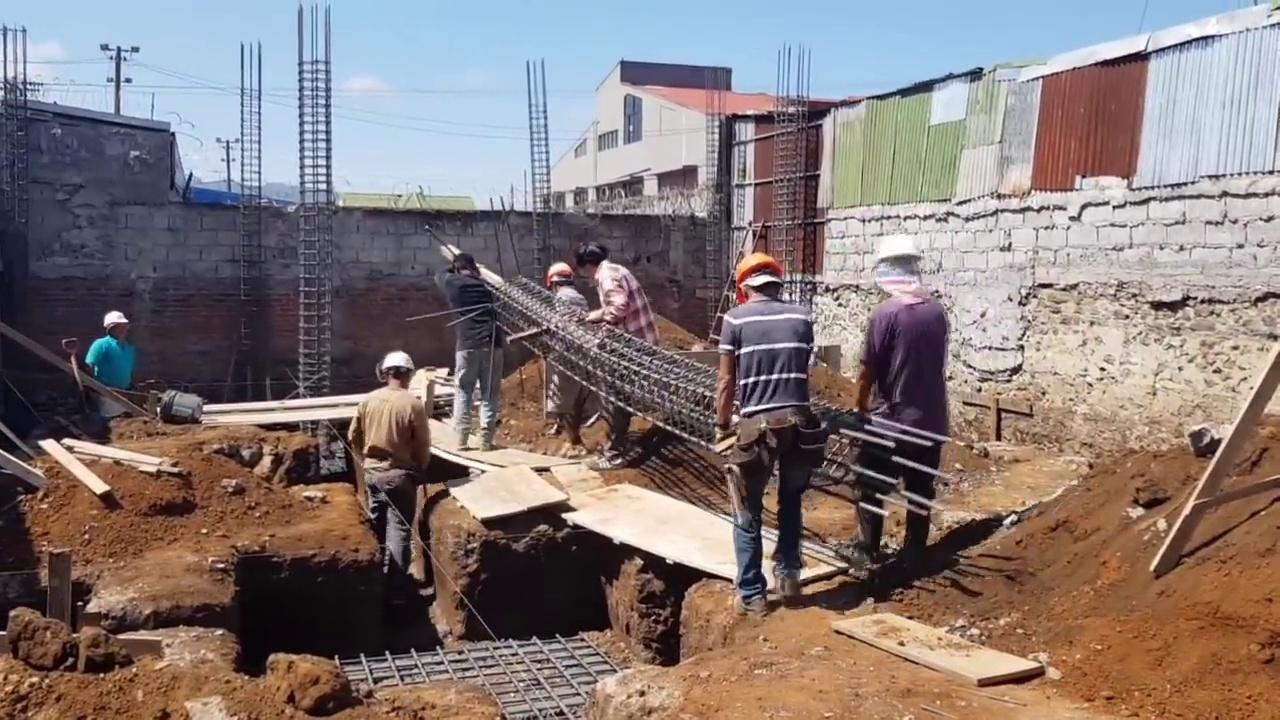helmet: (734, 252, 781, 302), (869, 234, 925, 273), (378, 350, 415, 375), (547, 262, 574, 287), (101, 309, 128, 330)
helmet-off: (574, 241, 609, 279), (451, 249, 479, 281)
helmet-on: (868, 234, 926, 302), (732, 252, 788, 308), (374, 350, 414, 390), (546, 261, 575, 294), (100, 311, 130, 342)
person: (717, 251, 822, 614), (847, 229, 953, 579), (345, 351, 431, 584), (577, 239, 660, 459), (434, 248, 503, 453), (542, 260, 593, 437), (76, 306, 130, 410)
